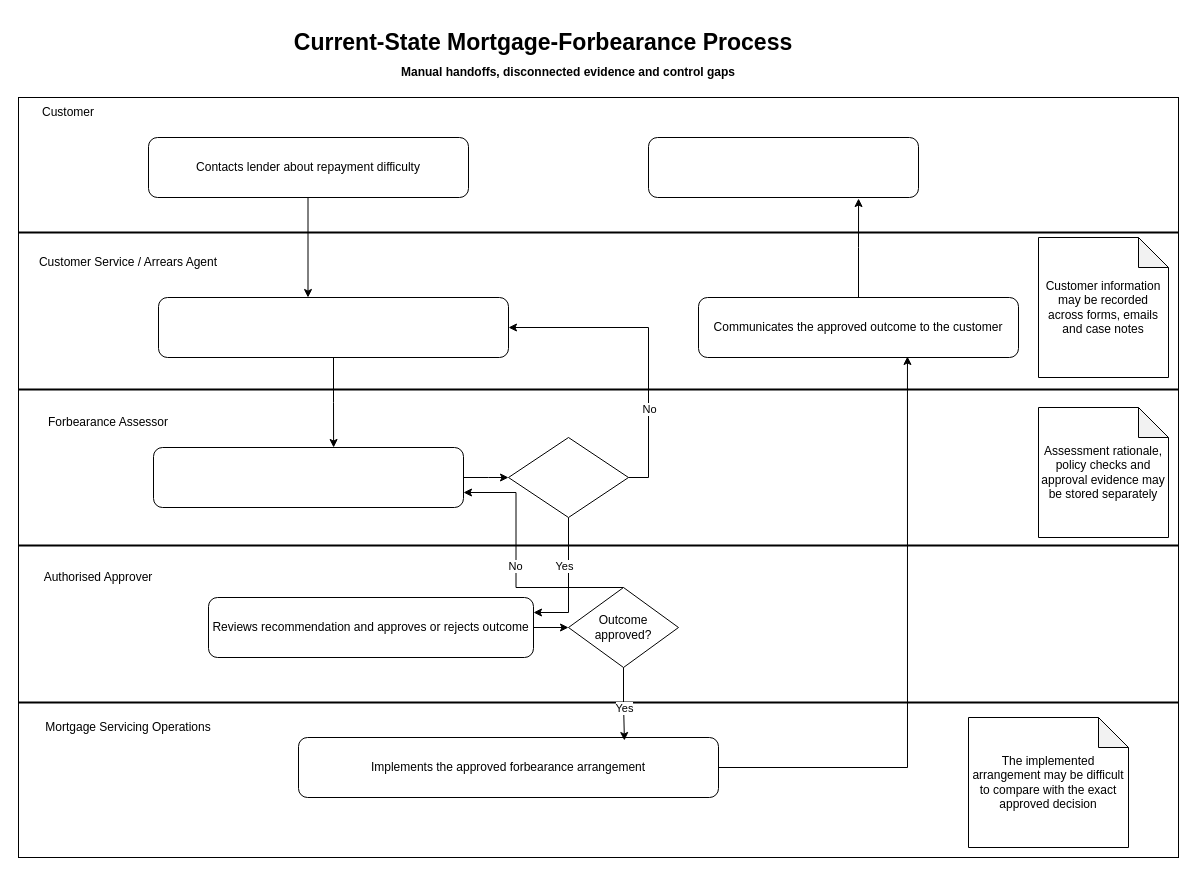
This 1196x875 diagram has some shape labels left out. The box of each missing label's shape, as (x1, y1, x2, y2) in pixels:
Information complete?: (508, 436, 628, 518)
Receives confirmation of the approved forbearance arrangement: (648, 136, 918, 198)
Records customer contact and gathers initial information: (158, 296, 508, 358)
Reviews information and assesses forbearance options: (152, 446, 464, 508)
